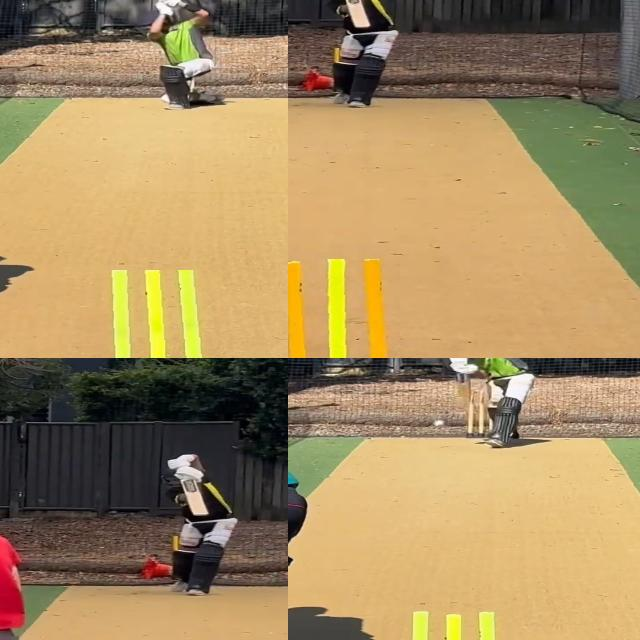Cricket ball: (432, 420, 446, 427)
Stumps: (91, 270, 220, 358), (288, 259, 400, 358), (468, 389, 495, 439)
